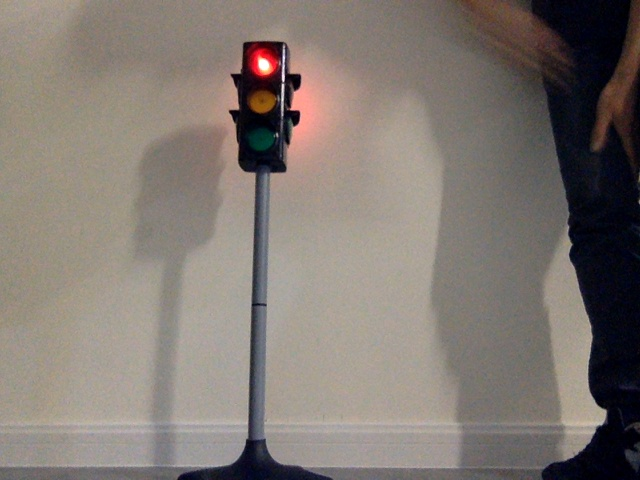red: (243, 45, 280, 158)
